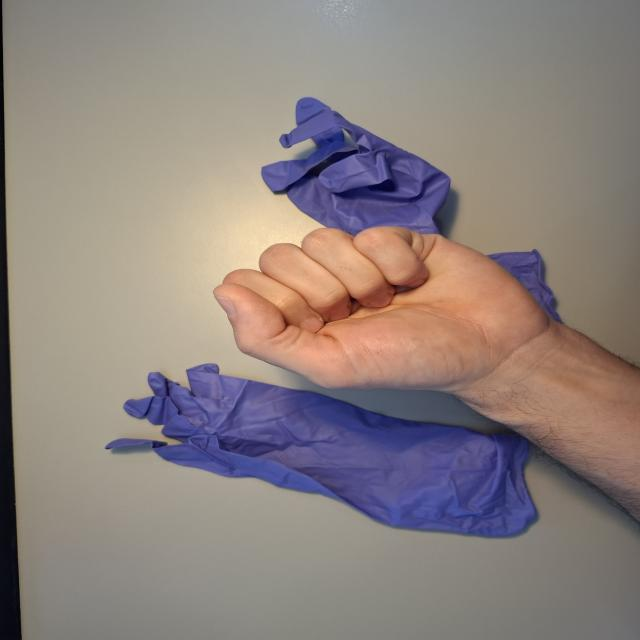glove_off: (209, 223, 563, 395)
